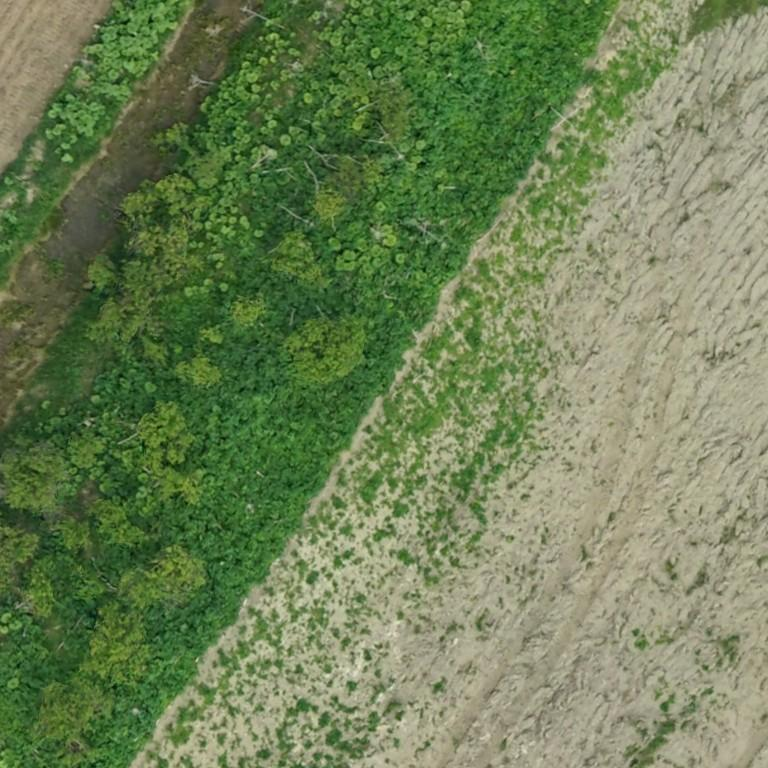hogweed: (59, 0, 621, 767)
